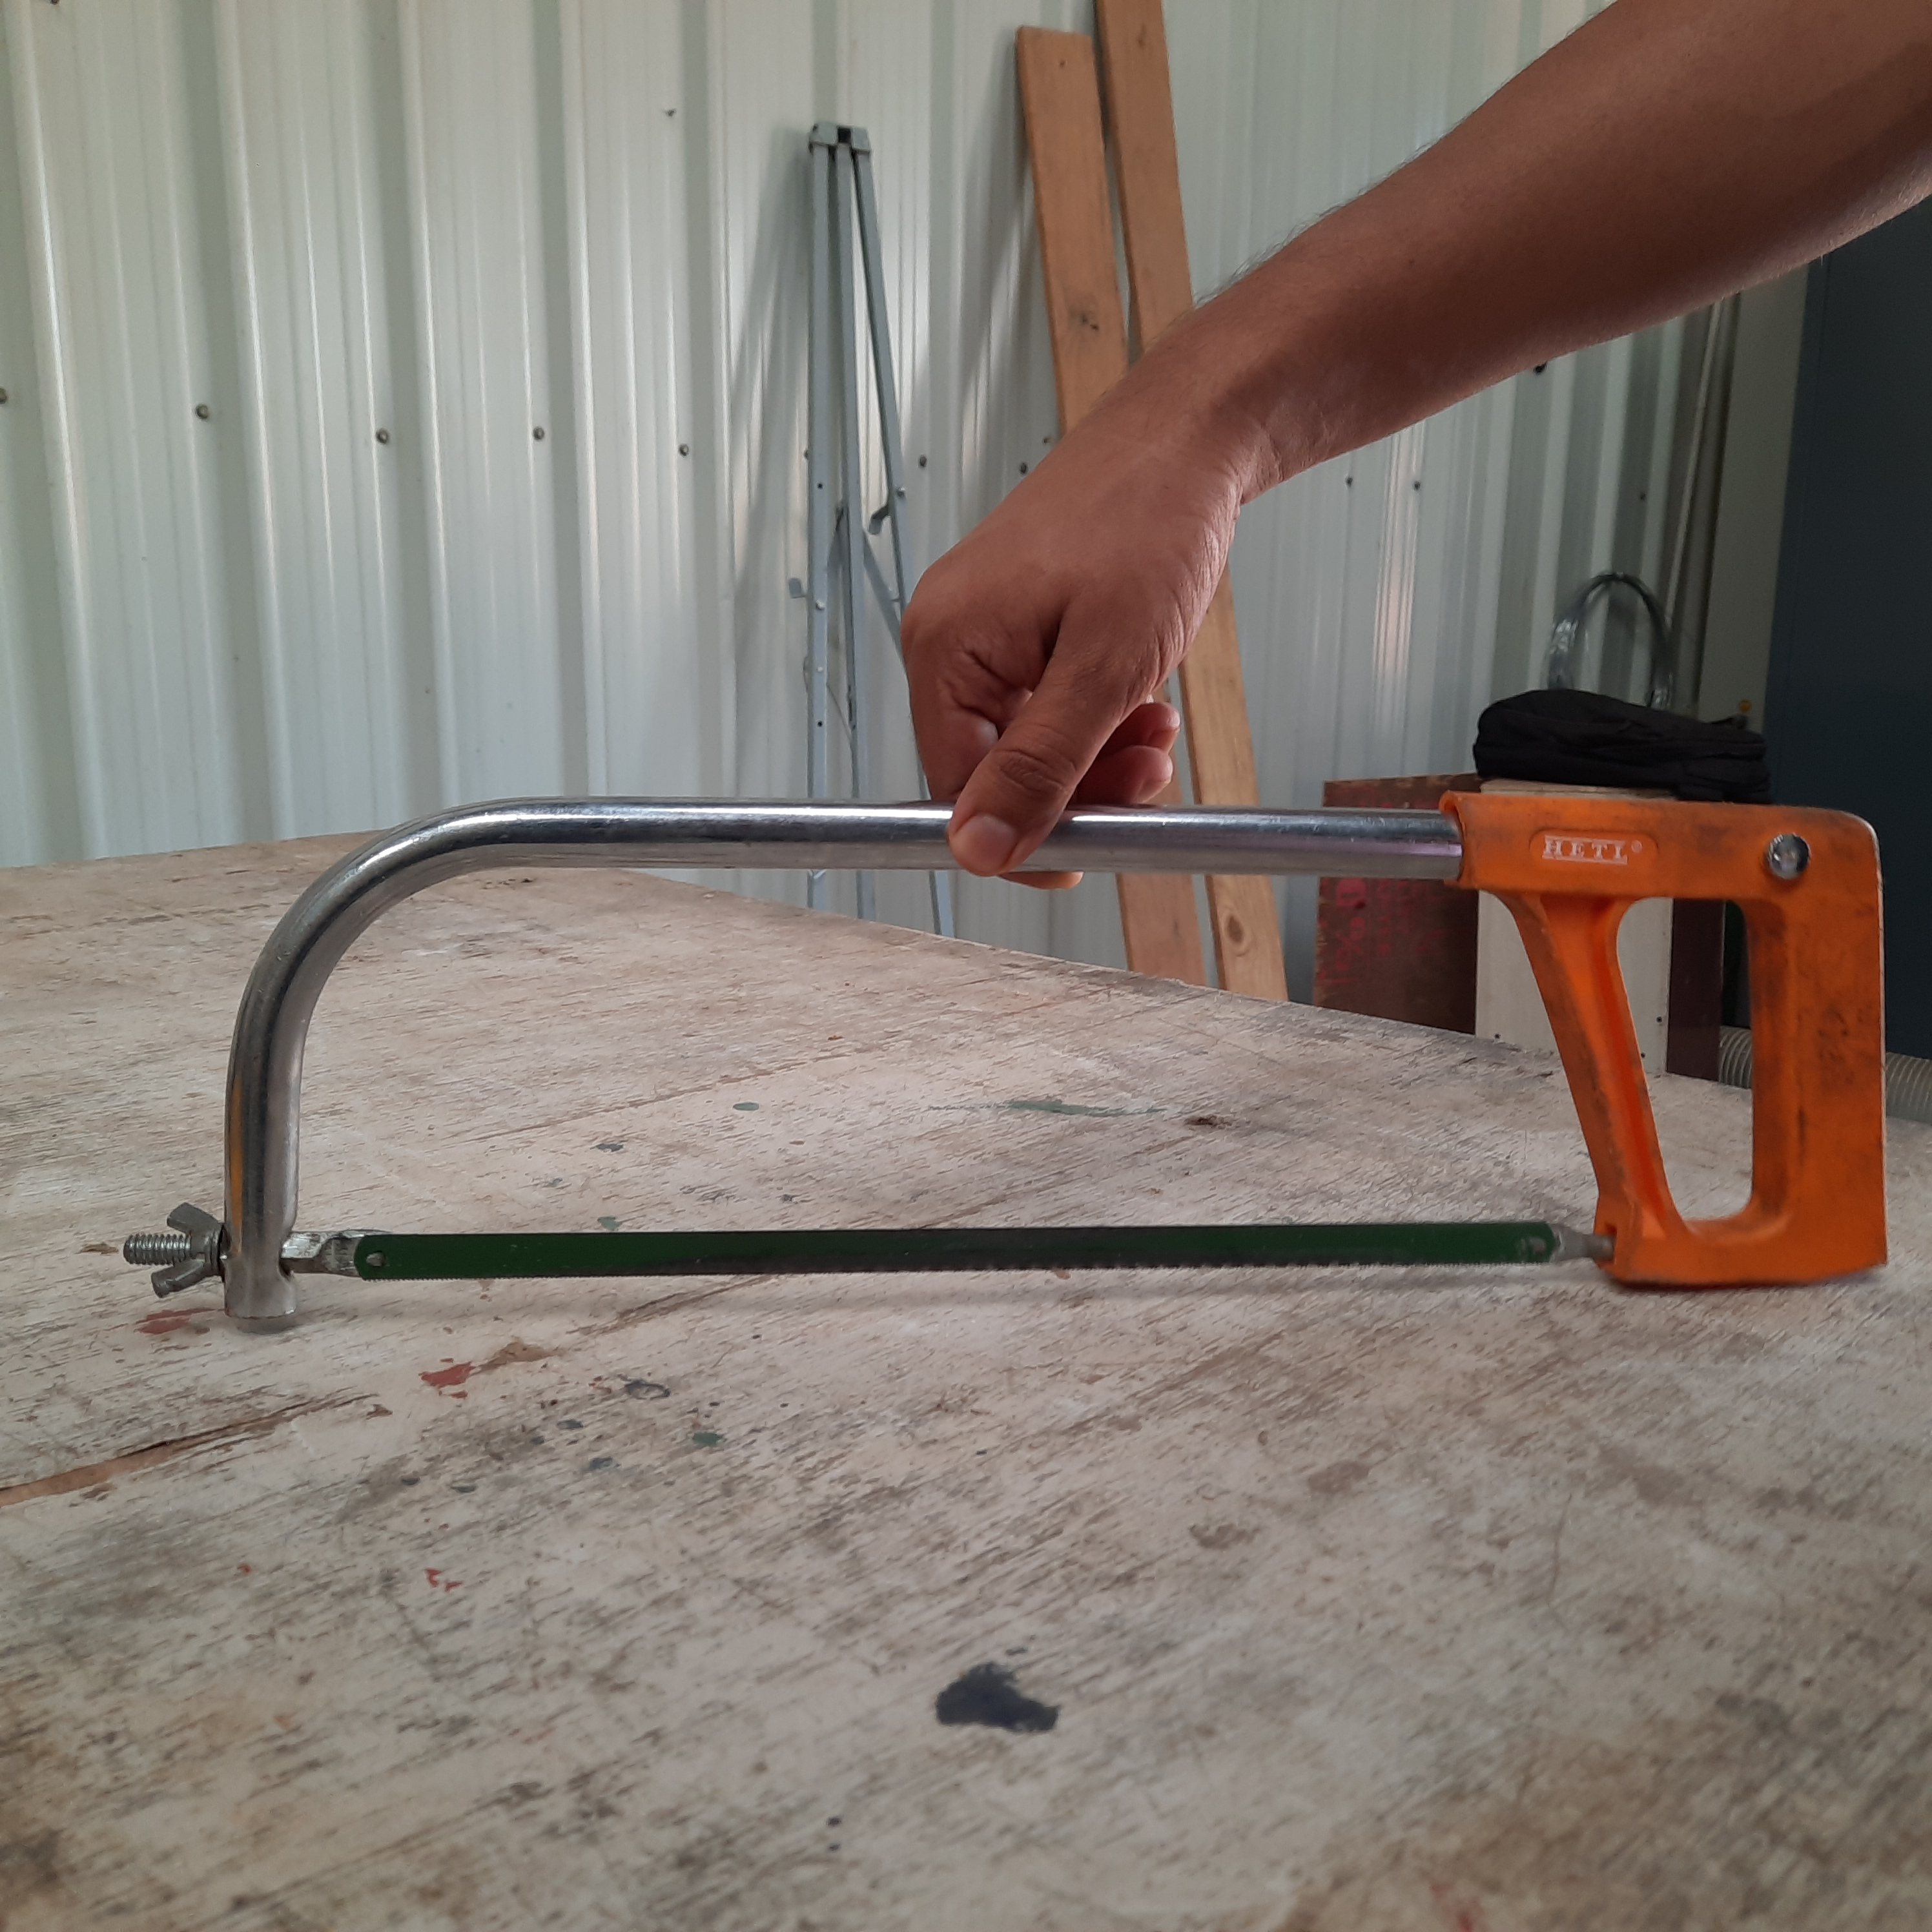Hexaframe: (113, 780, 1918, 1330)
